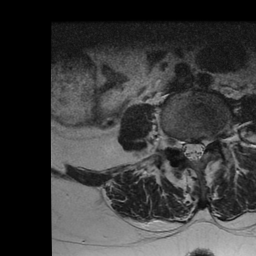CCS_normal: (189, 135, 197, 167)
LFS_normal: (205, 128, 213, 150)
LLS_normal: (197, 134, 204, 163)
RFS_normal: (173, 131, 181, 156)
RLS_normal: (181, 135, 189, 158)
